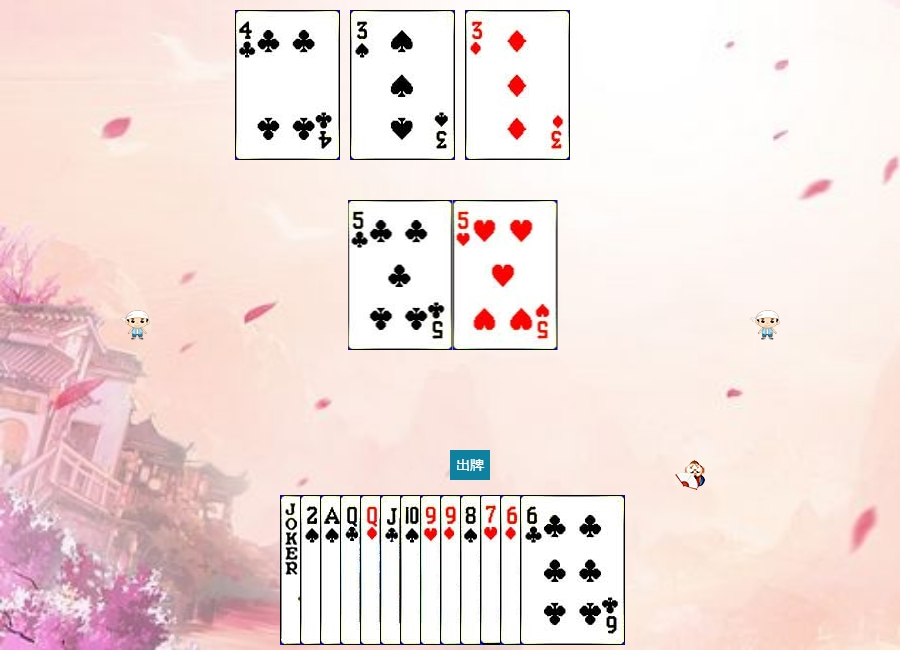10~4: (400, 495, 505, 645)
11~2: (380, 495, 485, 645)
12~1: (360, 495, 465, 645)
12~2: (340, 495, 445, 645)
14~4: (320, 495, 425, 645)
15~4: (300, 495, 405, 645)
17~3: (280, 495, 385, 645)
3~1: (465, 10, 570, 160)
3~4: (350, 10, 455, 160)
4~2: (235, 10, 340, 160)
5~2: (348, 200, 453, 350)
5~3: (453, 200, 558, 350)
6~1: (500, 495, 605, 645)
6~2: (520, 495, 625, 645)
7~3: (480, 495, 585, 645)
8~4: (460, 495, 565, 645)
9~1: (440, 495, 545, 645)
9~3: (420, 495, 525, 645)
